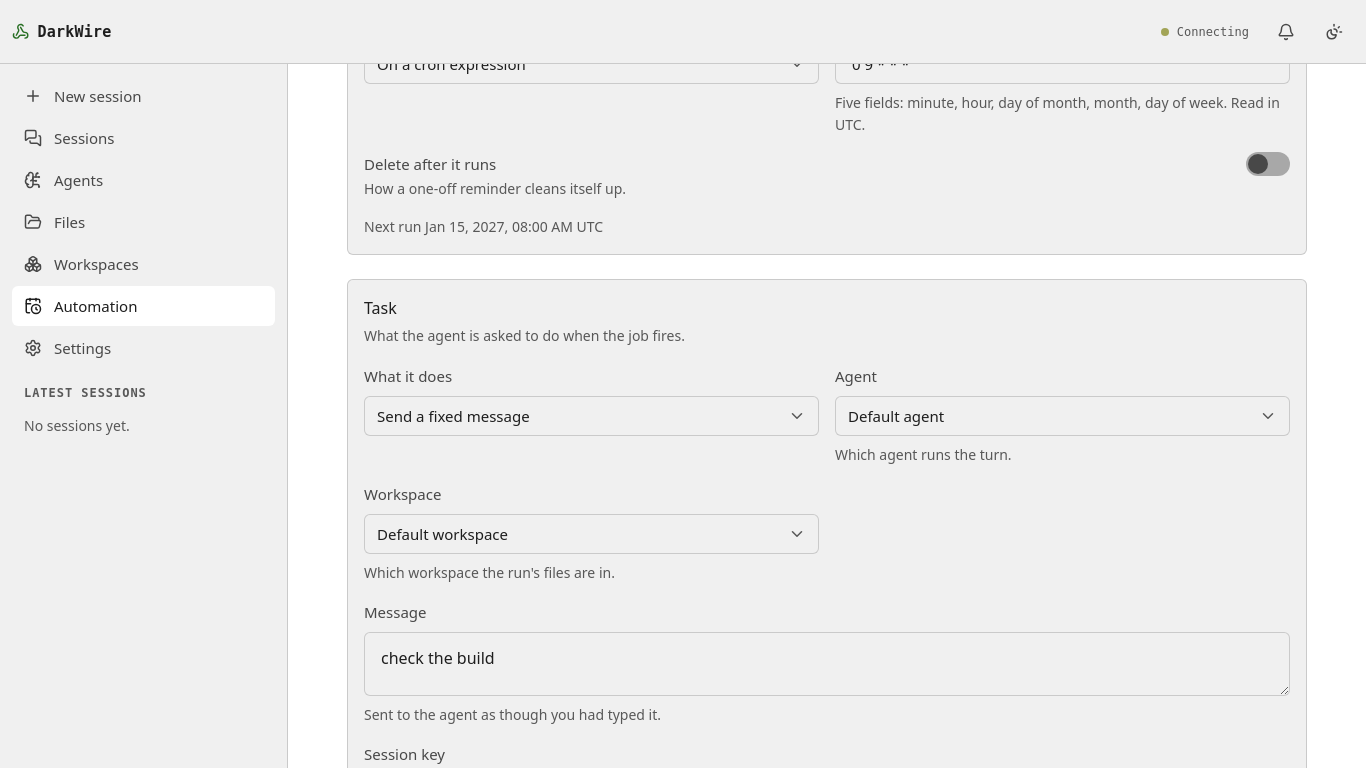
Test: the job editor › offers the real agents rather than a free-text box
(page scrolled)
What coordinates should you click on to do the following:
click the dropdown labelled "agent"
I would click on:
 (896, 416)
Its box is 835,396 -> 1290,436.
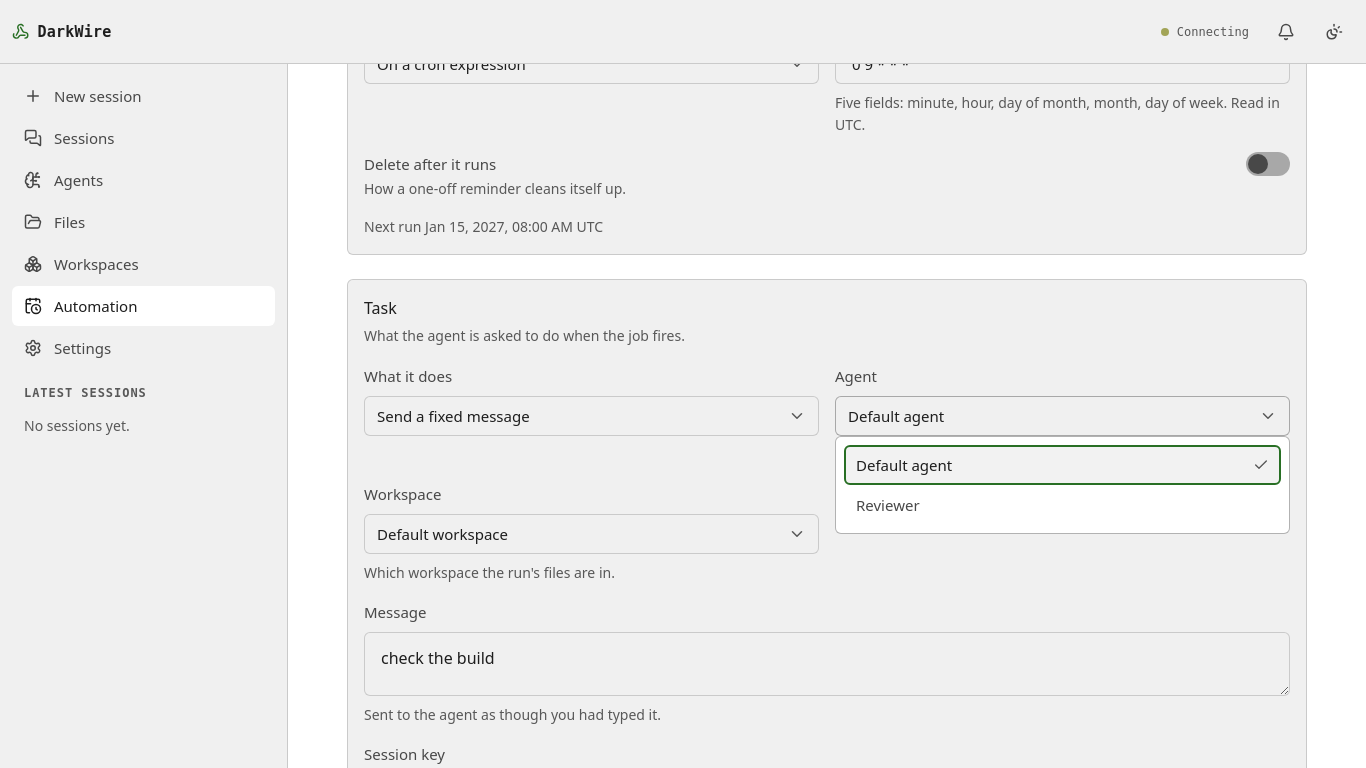
expect the option "Reviewer" is shown: met, box 856,495 -> 920,515
